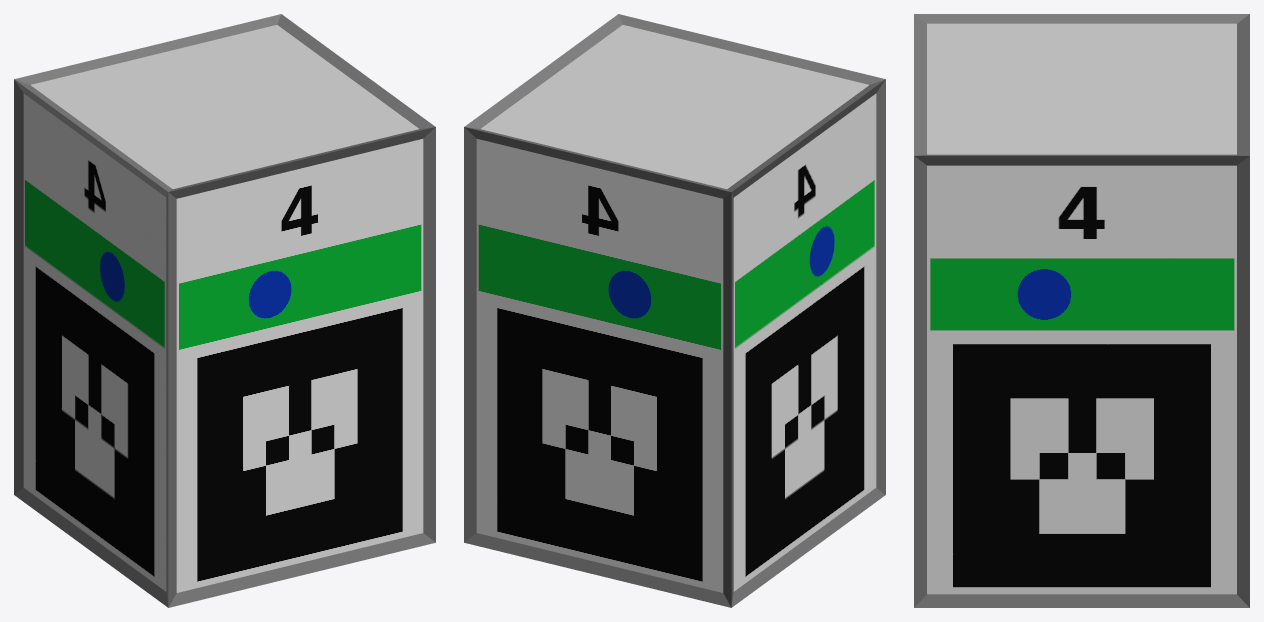
The model's file is marker4.dae.
The picture shows the model from 3 angles, left to right: view 1: azimuth 30°, elevation 25°; view 2: azimuth 150°, elevation 25°; view 3: azimuth 270°, elevation 25°; orthographic projection. The views are drawn at different scales.
Parts seen in each view (by area): view 1: Cube, Cube_001; view 2: Cube, Cube_001; view 3: Cube, Cube_001.
Part boxes in pixels (box(x1,y1,x2,y2)): Cube: box(23, 25, 423, 592); Cube_001: box(14, 14, 435, 607); Cube: box(476, 25, 876, 592); Cube_001: box(464, 14, 885, 607); Cube: box(927, 23, 1236, 594); Cube_001: box(914, 14, 1249, 607).
Bounding box in the file's own units: 2.06 × 2.06 × 3.06.
Materials: 3 (1 with a texture image).
